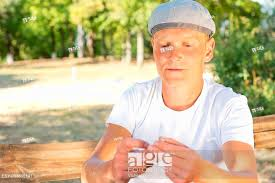white_male: (150, 27, 203, 89)
